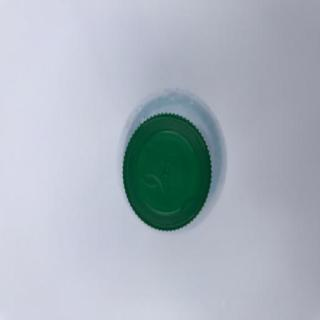Plastic-bottle: (114, 85, 230, 240)
